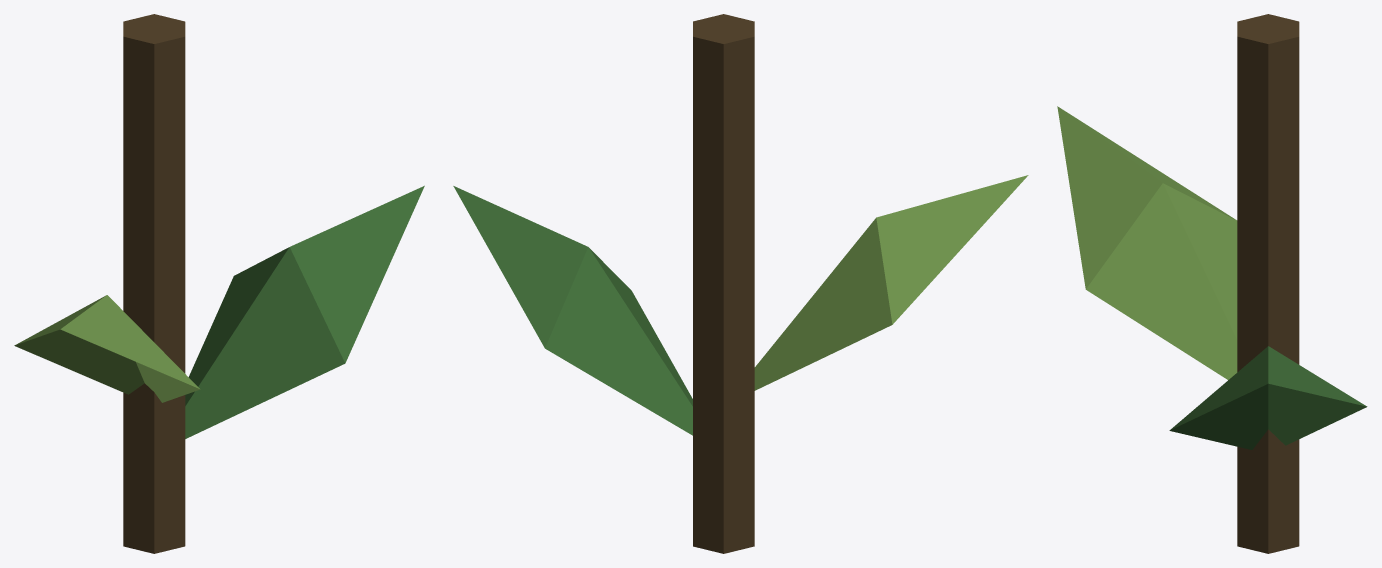
File: Healroot1.gltf
3 views of the same model, side by side, from view 1: azimuth 30°, elevation 25°; view 2: azimuth 150°, elevation 25°; view 3: azimuth 270°, elevation 25° (orthographic).
Parts seen in each view (by area): view 1: Healroot1; view 2: Healroot1; view 3: Healroot1.
Part boxes in pixels (bbox=[...]): Healroot1: bbox=[14, 14, 424, 553]; Healroot1: bbox=[453, 14, 1028, 553]; Healroot1: bbox=[1057, 14, 1367, 553].
Size of the model in its own units: 0.1216 by 0.126 by 0.0695.
